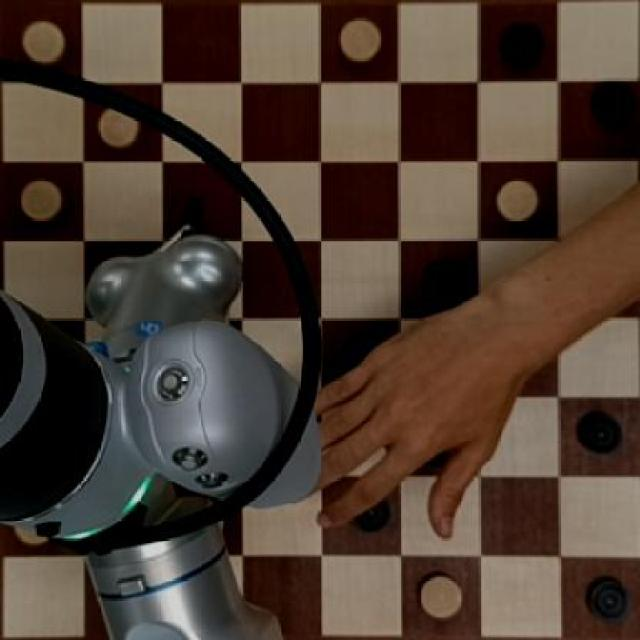black: (566, 404, 636, 461), (577, 86, 632, 139), (491, 15, 546, 66), (420, 259, 474, 304), (582, 572, 629, 620)
white: (487, 169, 543, 232), (418, 568, 472, 626), (15, 13, 74, 63), (11, 174, 69, 224), (332, 11, 385, 65)
